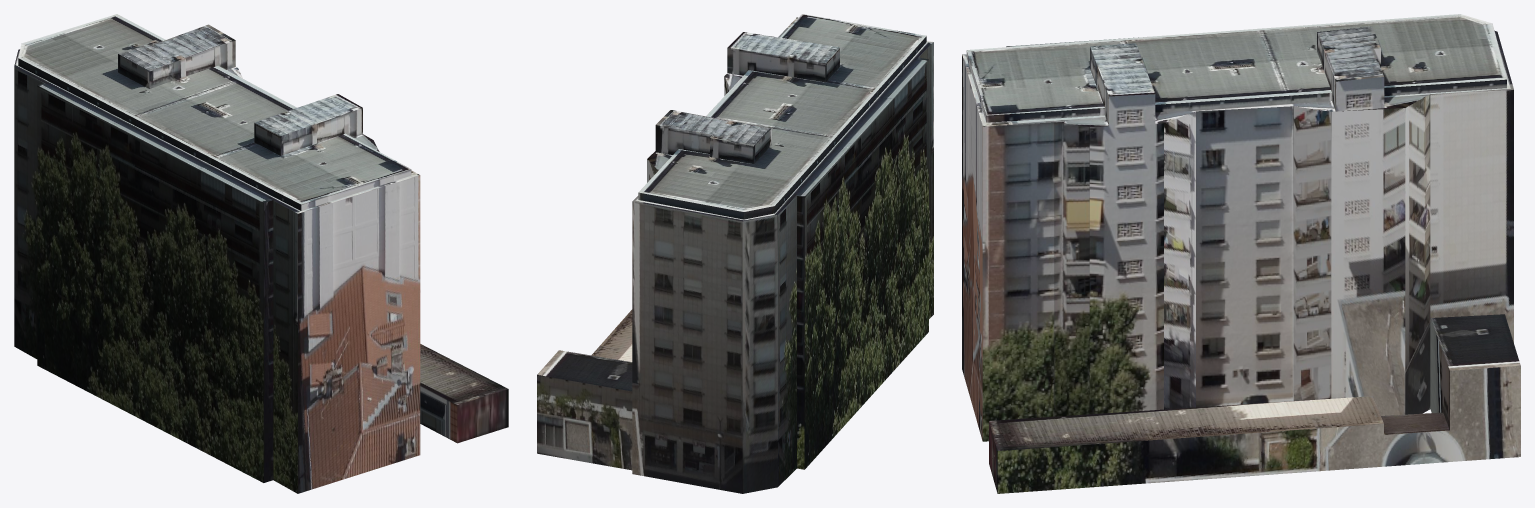
3 views of the same model, side by side, from view 1: azimuth 30°, elevation 25°; view 2: azimuth 150°, elevation 25°; view 3: azimuth 270°, elevation 25° (orthographic). The views are drawn at different scales.
Parts seen in each view (by area): view 1: Z_UP; view 2: Z_UP; view 3: Z_UP.
Boxes of the visible parts, left/top/right/bottom form: Z_UP: left=14, top=14, right=508, bottom=493; Z_UP: left=537, top=14, right=933, bottom=493; Z_UP: left=962, top=14, right=1520, bottom=493.
Bounding box in the file's own units: 28.53 × 28.91 × 42.23.
2 materials, 1 textured.
